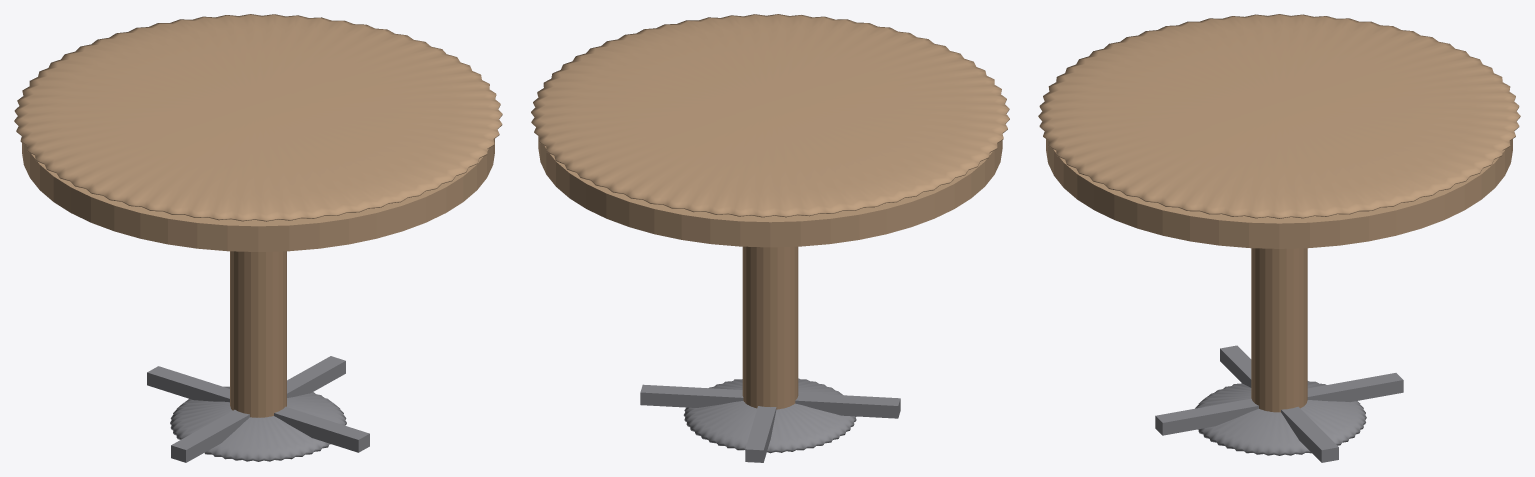
File: round_table.glb
3 views of the same model, side by side, from view 1: azimuth 30°, elevation 25°; view 2: azimuth 150°, elevation 25°; view 3: azimuth 270°, elevation 25° (orthographic).
Visible parts, largest first — view 1: RoundTable_Tabletop, RoundTable_Apron, RoundTable_Column, RoundTable_Foot, RoundTable_Spoke_3, RoundTable_Spoke_2, RoundTable_Spoke_1, RoundTable_Spoke_0; view 2: RoundTable_Tabletop, RoundTable_Apron, RoundTable_Column, RoundTable_Foot, RoundTable_Spoke_2, RoundTable_Spoke_0, RoundTable_Spoke_1; view 3: RoundTable_Tabletop, RoundTable_Apron, RoundTable_Column, RoundTable_Foot, RoundTable_Spoke_3, RoundTable_Spoke_1, RoundTable_Spoke_0, RoundTable_Spoke_2.
Boxes of the visible parts, left/top/right/bottom form: RoundTable_Tabletop: left=14, top=14, right=502, bottom=221; RoundTable_Apron: left=22, top=139, right=494, bottom=251; RoundTable_Column: left=230, top=251, right=286, bottom=417; RoundTable_Foot: left=170, top=386, right=346, bottom=461; RoundTable_Spoke_3: left=274, top=406, right=369, bottom=452; RoundTable_Spoke_2: left=171, top=409, right=249, bottom=462; RoundTable_Spoke_1: left=147, top=366, right=229, bottom=402; RoundTable_Spoke_0: left=287, top=356, right=345, bottom=397; RoundTable_Tabletop: left=531, top=14, right=1009, bottom=217; RoundTable_Apron: left=538, top=136, right=1002, bottom=247; RoundTable_Column: left=742, top=246, right=798, bottom=409; RoundTable_Foot: left=683, top=378, right=856, bottom=453; RoundTable_Spoke_2: left=795, top=393, right=900, bottom=418; RoundTable_Spoke_0: left=640, top=384, right=743, bottom=407; RoundTable_Spoke_1: left=745, top=406, right=776, bottom=462; RoundTable_Tabletop: left=1038, top=14, right=1520, bottom=218; RoundTable_Apron: left=1046, top=139, right=1512, bottom=248; RoundTable_Column: left=1251, top=248, right=1307, bottom=412; RoundTable_Foot: left=1195, top=381, right=1366, bottom=455; RoundTable_Spoke_3: left=1155, top=398, right=1258, bottom=435; RoundTable_Spoke_1: left=1307, top=373, right=1403, bottom=402; RoundTable_Spoke_0: left=1281, top=406, right=1338, bottom=462; RoundTable_Spoke_2: left=1220, top=345, right=1251, bottom=387.
Bounding box in the file's own units: 1.03 × 0.7512 × 1.03.
